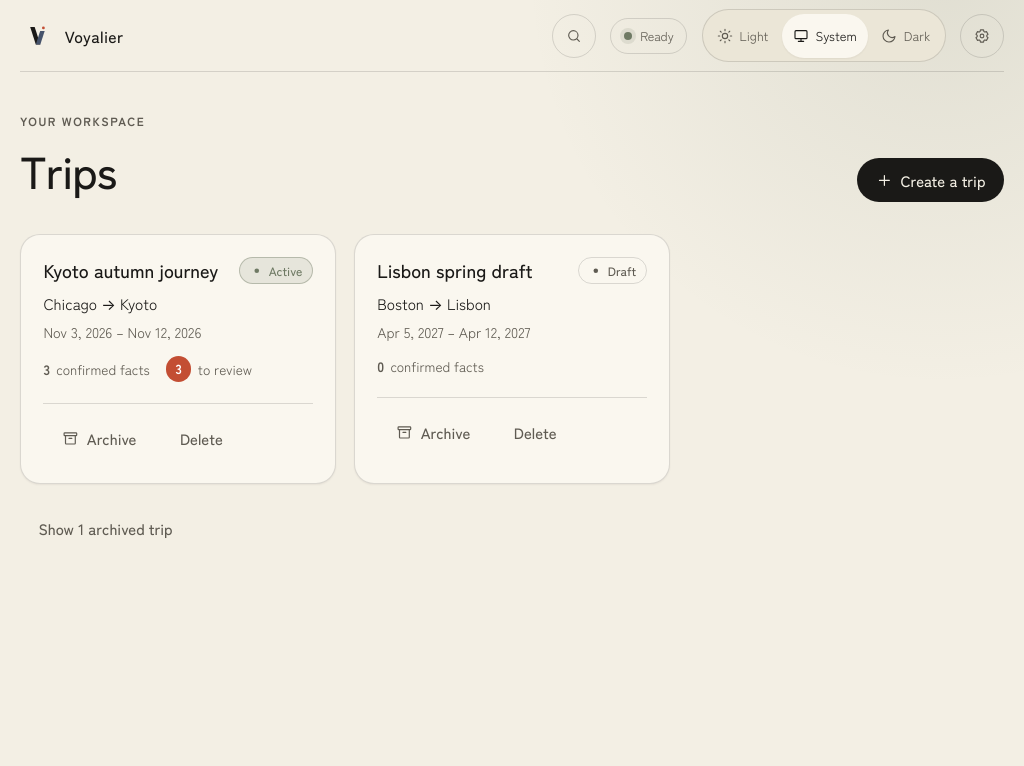
Test: weather layers › suggests what to pack and names the reading behind each suggestion
Click the button with aria-label "Open Kyoto autumn journey": (131, 270) [43,257,218,283]
(page scrolled)
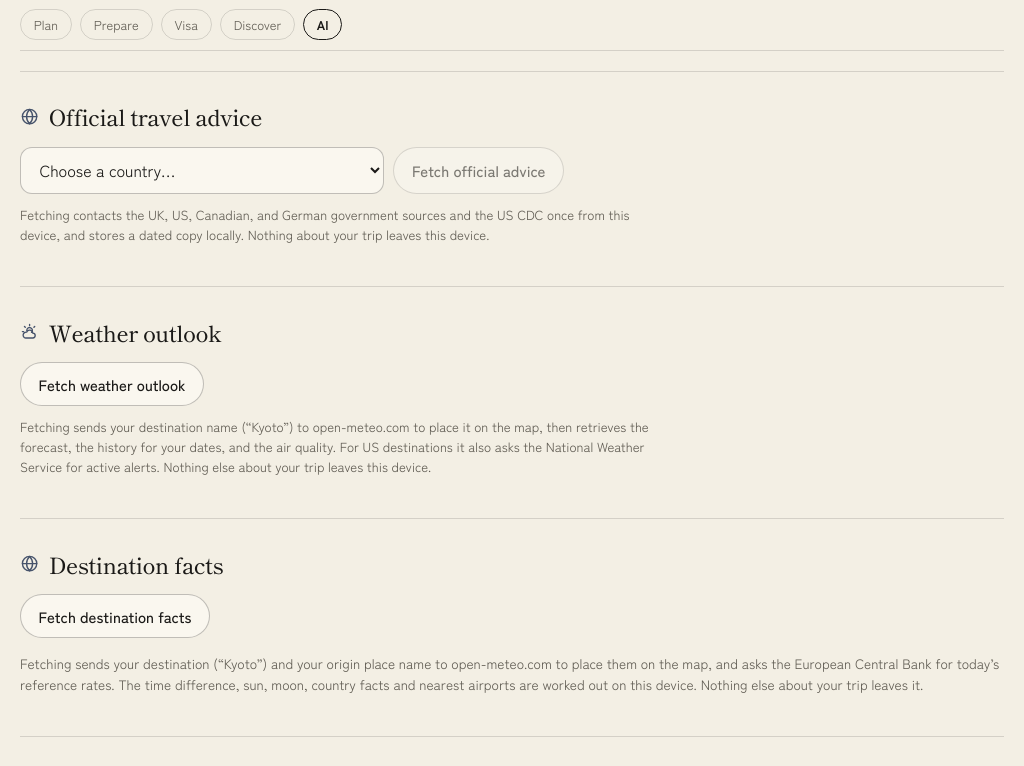
Click the button "Fetch weather outlook": (112, 384) [20,362,204,406]
(page scrolled)
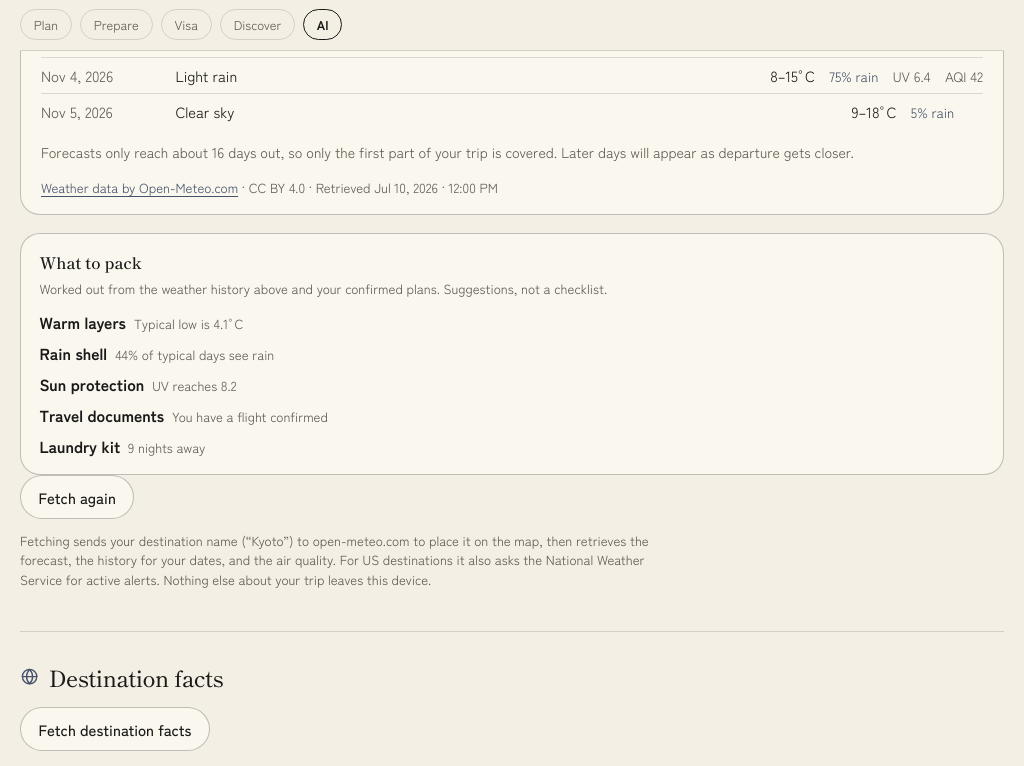
Expected: the heading "What to pack" is shown, [39,250,142,274]
Expected: the text "Warm layers" is shown, [39,310,126,334]
Expected: the text "Typical low is 4.1°C" is shown, [134,314,243,333]
